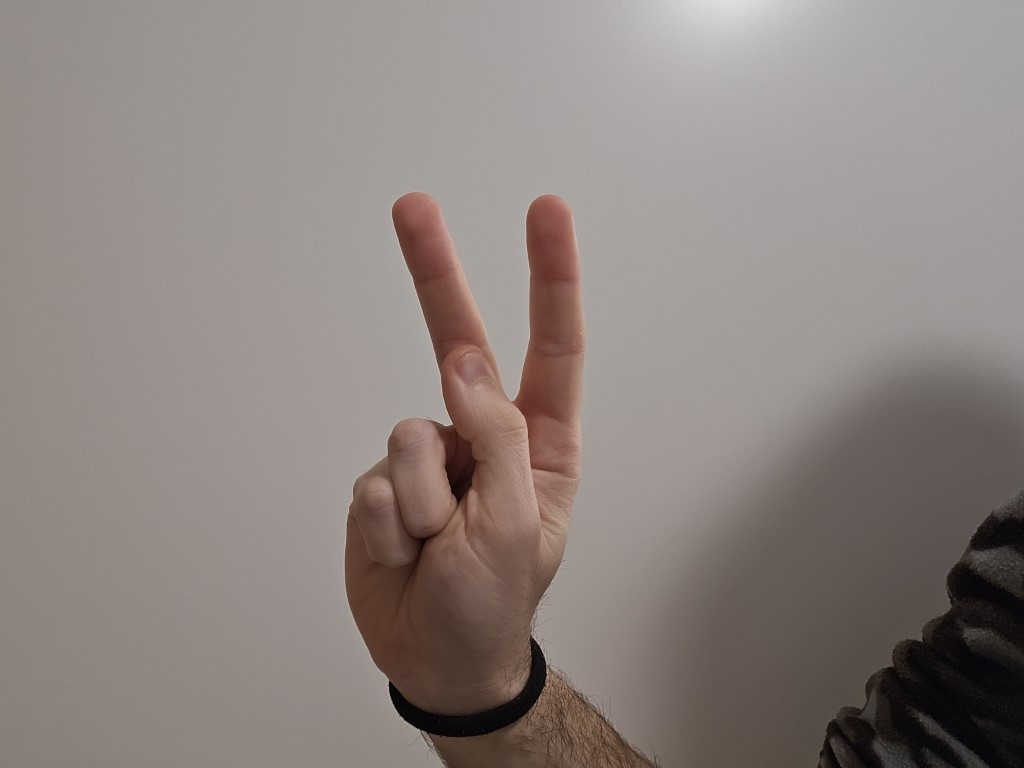k: (285, 182, 601, 665)
